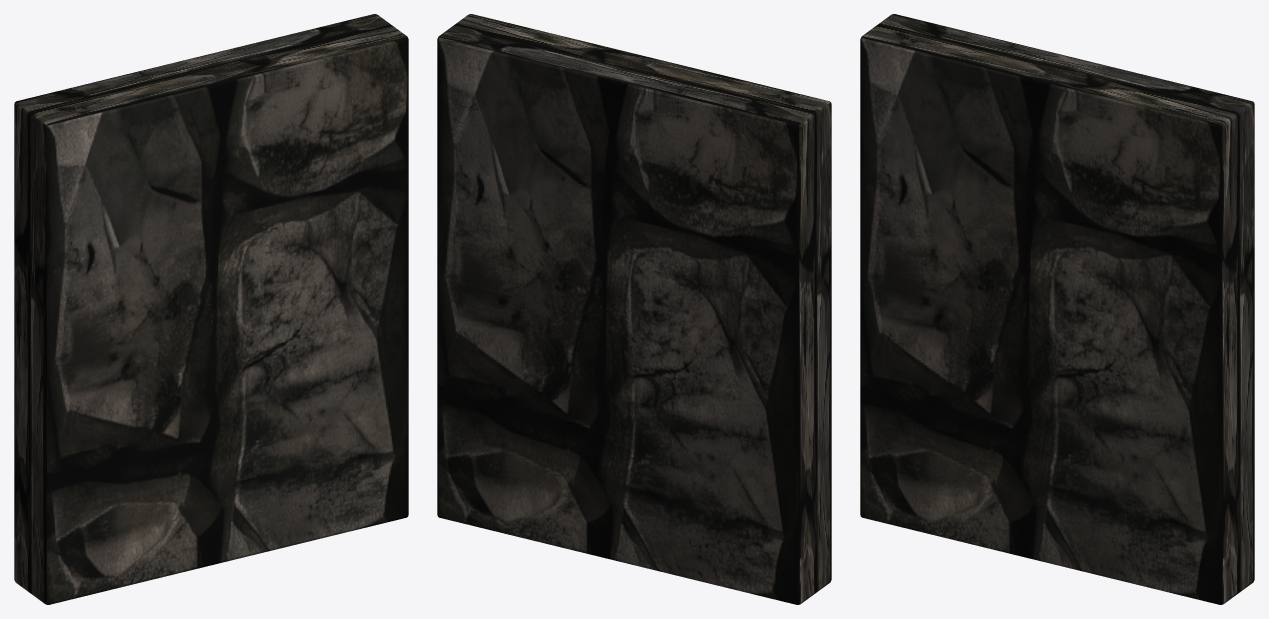
The model's file is door_stone_sliding_LOD2.glb.
The picture shows the model from 3 angles, left to right: view 1: azimuth 30°, elevation 25°; view 2: azimuth 150°, elevation 25°; view 3: azimuth 330°, elevation 25°; orthographic projection.
Visible parts, largest first — view 1: LOD2_StoneDoor; view 2: LOD2_StoneDoor; view 3: LOD2_StoneDoor.
Boxes of the visible parts, bbox=[...] form: LOD2_StoneDoor: bbox=[14, 14, 408, 604]; LOD2_StoneDoor: bbox=[437, 14, 831, 604]; LOD2_StoneDoor: bbox=[860, 14, 1254, 604].
Bounding box in the file's own units: 2.25 × 2.85 × 0.36.
Materials: 1 (1 with a texture image).
